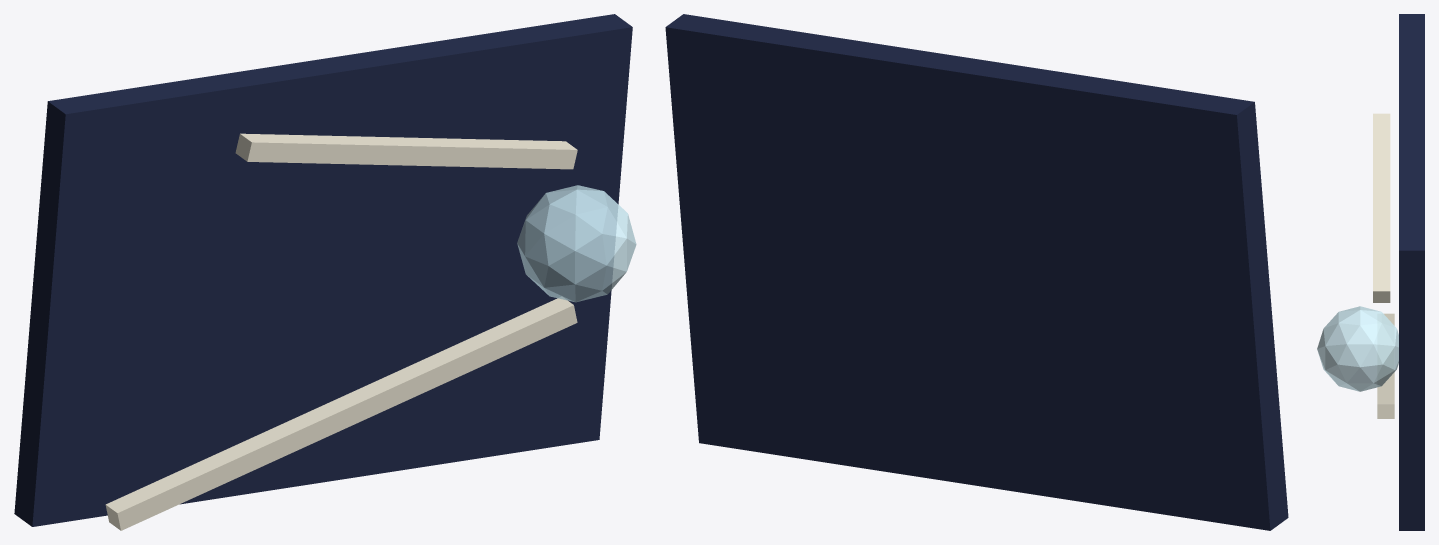
The model's file is 02_world_prop_polish.glb.
The picture shows the model from 3 angles, left to right: view 1: azimuth 30°, elevation 25°; view 2: azimuth 150°, elevation 25°; view 3: azimuth 270°, elevation 25°; orthographic projection. The views are drawn at different scales.
Visible parts, largest first — view 1: object_overlay_plate, edge_wear_a, glow_socket, edge_wear_b; view 2: object_overlay_plate; view 3: object_overlay_plate, glow_socket, edge_wear_b, edge_wear_a.
Part boxes in pixels (x1,y1,x2,y2): object_overlay_plate: (14, 14, 632, 526); edge_wear_a: (105, 297, 577, 530); glow_socket: (517, 185, 636, 302); edge_wear_b: (235, 133, 577, 169); object_overlay_plate: (665, 14, 1288, 530); object_overlay_plate: (1399, 14, 1424, 530); glow_socket: (1317, 306, 1398, 391); edge_wear_b: (1373, 113, 1390, 302); edge_wear_a: (1377, 313, 1394, 418).
Bounding box in the file's own units: 1.16 × 0.8417 × 0.25.
